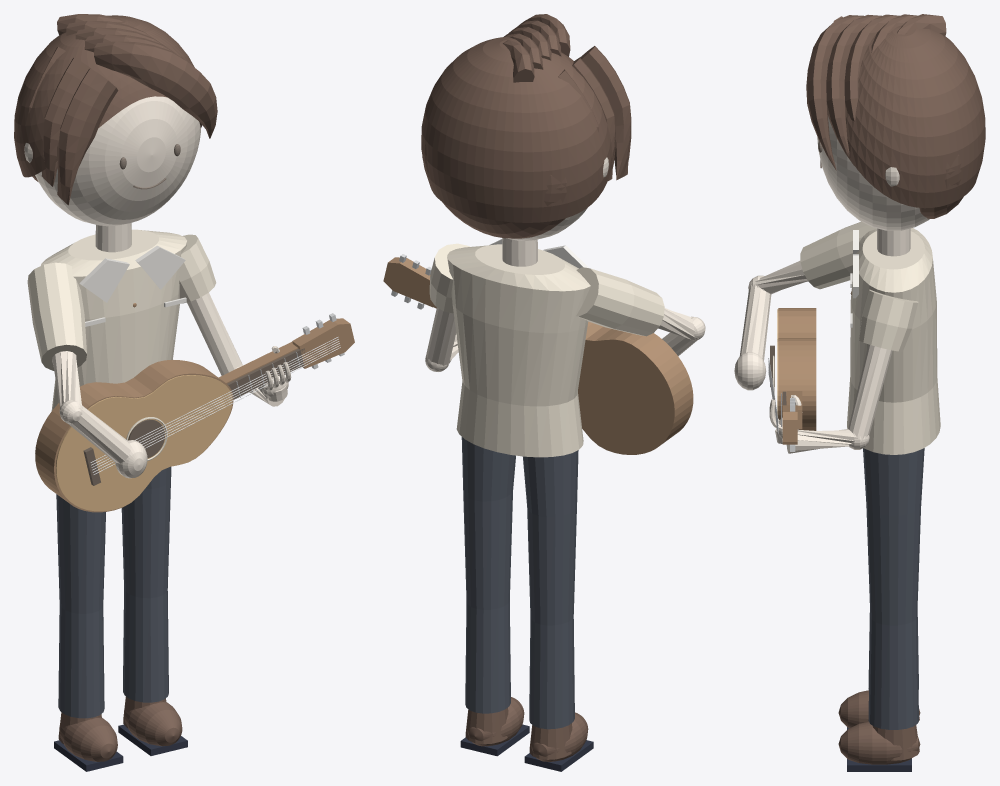
The model's file is 06_male_guitarist.glb.
3 views of the same model, side by side, from view 1: azimuth 30°, elevation 25°; view 2: azimuth 150°, elevation 25°; view 3: azimuth 270°, elevation 25° (orthographic).
Parts seen in each view (by area): view 1: brown, skin, charcoal, cream, wood, woodside, ivory, hole, metal, satblack; view 2: brown, cream, charcoal, woodside, skin, satblack; view 3: brown, cream, charcoal, skin, woodside, satblack, ivory.
Boxes of the visible parts, <box> form: brown: <box>14,14,217,761</box>; skin: <box>24,96,291,478</box>; charcoal: <box>56,466,171,718</box>; cream: <box>27,229,216,460</box>; wood: <box>56,375,232,511</box>; woodside: <box>35,303,354,512</box>; ivory: <box>79,245,186,326</box>; hole: <box>83,348,304,485</box>; metal: <box>90,313,344,475</box>; satblack: <box>54,724,187,771</box>; brown: <box>421,14,631,761</box>; cream: <box>429,243,664,457</box>; charcoal: <box>461,437,578,729</box>; woodside: <box>383,257,693,454</box>; skin: <box>425,157,705,371</box>; satblack: <box>460,724,593,771</box>; brown: <box>806,14,985,764</box>; cream: <box>772,221,940,454</box>; charcoal: <box>863,448,924,729</box>; skin: <box>734,116,929,453</box>; woodside: <box>778,291,851,444</box>; satblack: <box>847,727,911,771</box>; ivory: <box>850,230,858,327</box>.
Bounding box in the file's own units: 0.7027 × 1.6 × 0.5007.
